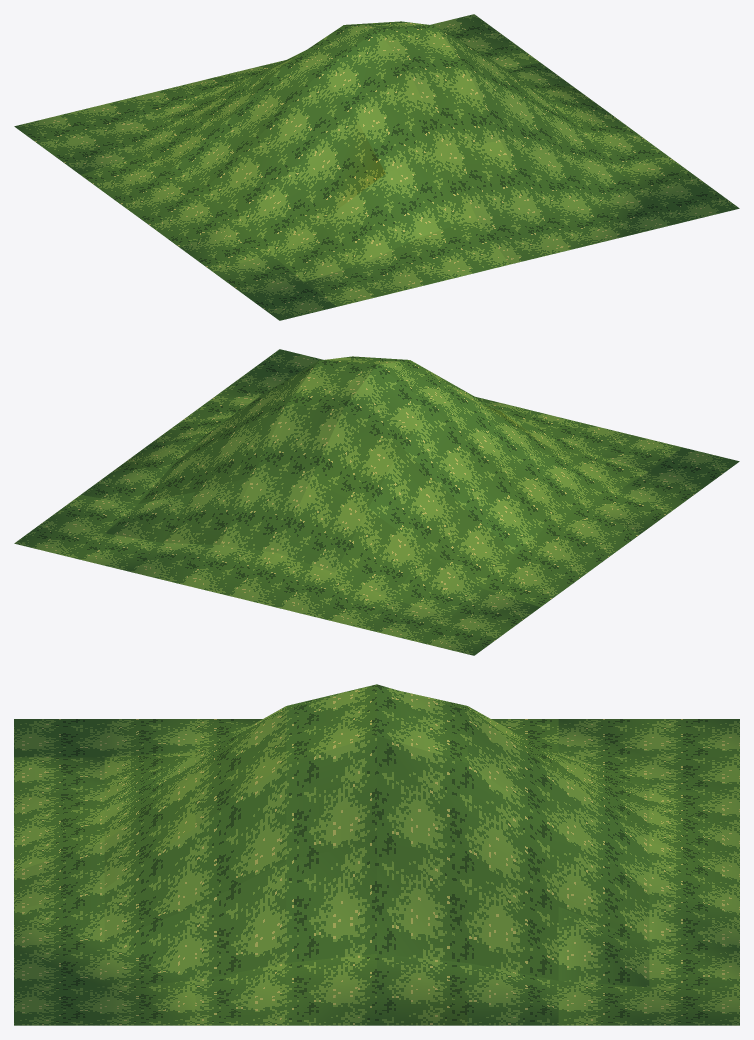
File: mter.hill__big.glb
3 renders of one model, top to bottom at view 1: azimuth 30°, elevation 25°; view 2: azimuth 150°, elevation 25°; view 3: azimuth 270°, elevation 25°, orthographic. The views are drawn at different scales.
Visible parts, largest first — view 1: kit_shell_hill; view 2: kit_shell_hill; view 3: kit_shell_hill.
Part boxes in pixels (left/top/right/bottom): kit_shell_hill: left=14, top=14, right=739, bottom=320; kit_shell_hill: left=14, top=349, right=739, bottom=655; kit_shell_hill: left=14, top=684, right=739, bottom=1025.
Bounding box in the file's own units: 28 × 8 × 28.
1 material, 1 textured.
